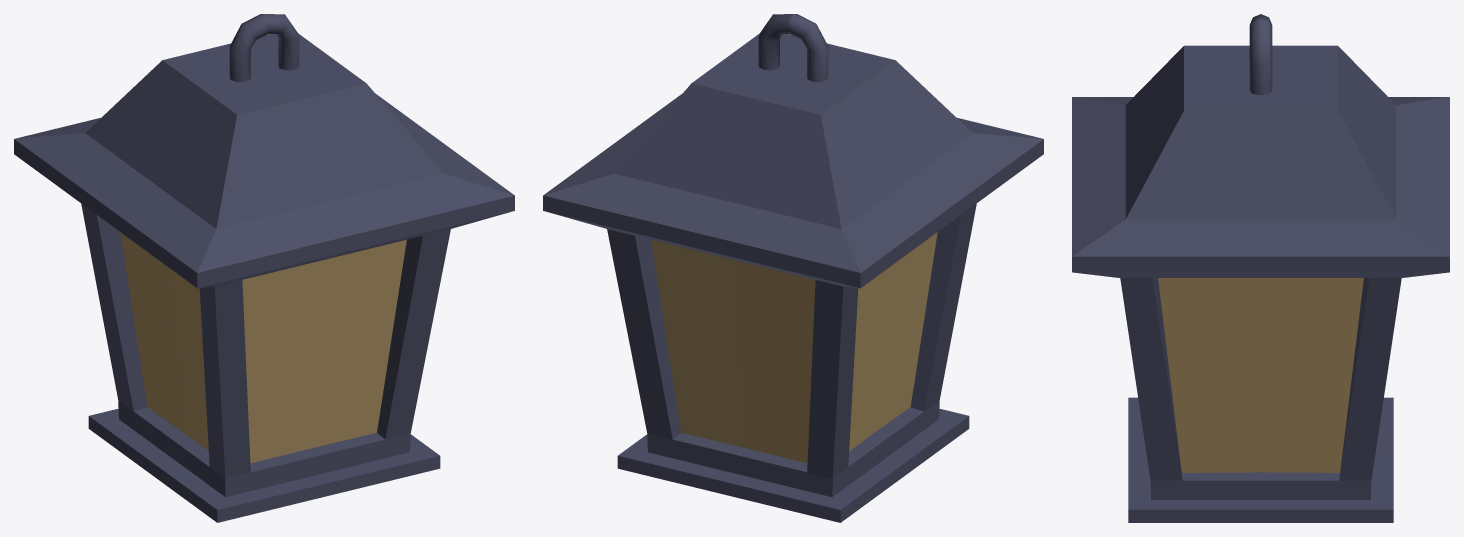
Rendered from MDL_Lamp.fbx.
The picture shows the model from 3 angles, left to right: view 1: azimuth 30°, elevation 25°; view 2: azimuth 150°, elevation 25°; view 3: azimuth 270°, elevation 25°; orthographic projection. The views are drawn at different scales.
Visible parts, largest first — view 1: Lamp_Frame, Lamp_Light, Lamp_Ring; view 2: Lamp_Frame, Lamp_Light, Lamp_Ring; view 3: Lamp_Frame, Lamp_Light, Lamp_Ring.
Boxes of the visible parts, <box> form: Lamp_Frame: <box>14,33,514,522</box>; Lamp_Light: <box>120,232,406,463</box>; Lamp_Ring: <box>229,14,299,82</box>; Lamp_Frame: <box>543,33,1043,522</box>; Lamp_Light: <box>651,232,937,463</box>; Lamp_Ring: <box>758,14,828,82</box>; Lamp_Frame: <box>1072,45,1449,522</box>; Lamp_Light: <box>1158,278,1363,472</box>; Lamp_Ring: <box>1249,14,1272,95</box>.
Bounding box in the file's own units: 39.36 × 51.47 × 39.32.
